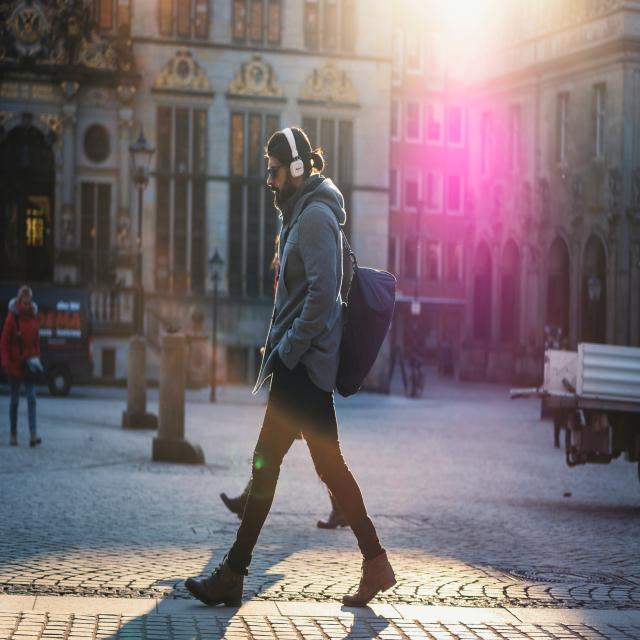Person: (184, 128, 396, 607), (3, 284, 41, 447)
